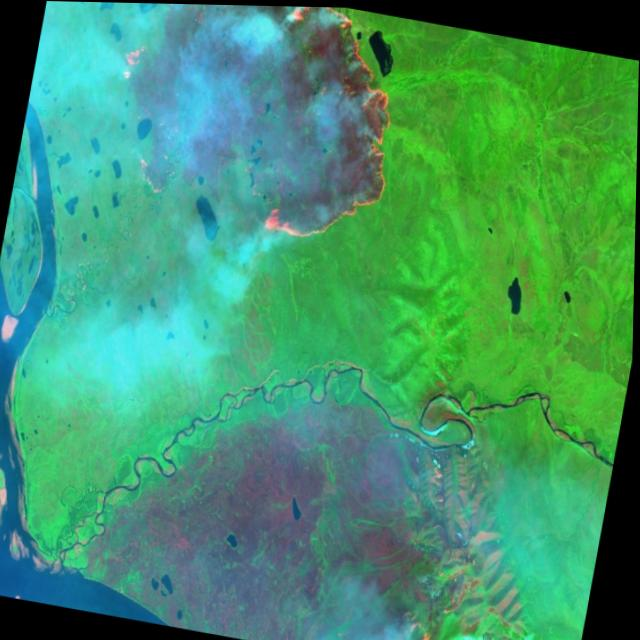fire: (86, 2, 419, 276), (388, 550, 472, 640)
